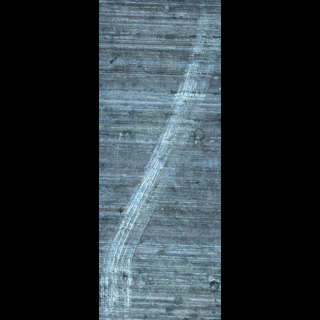d: (99, 225, 134, 319), (179, 15, 214, 98), (158, 86, 191, 169), (127, 168, 160, 235)
